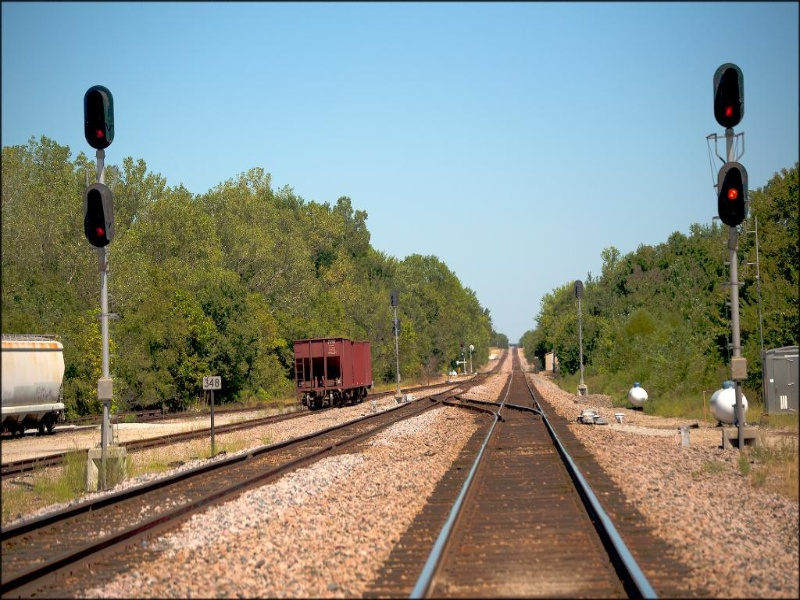red_light: (699, 152, 759, 233), (708, 60, 759, 133), (77, 87, 113, 156), (79, 188, 115, 244)
